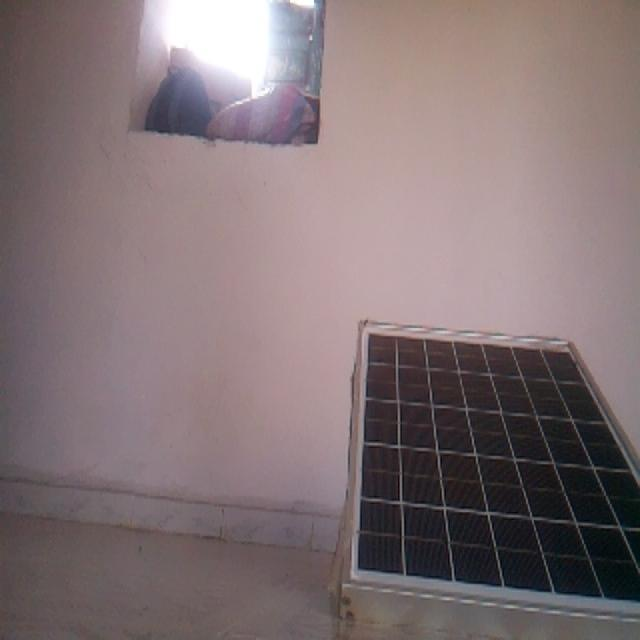Normal Solar Panel: (358, 335, 640, 601)
